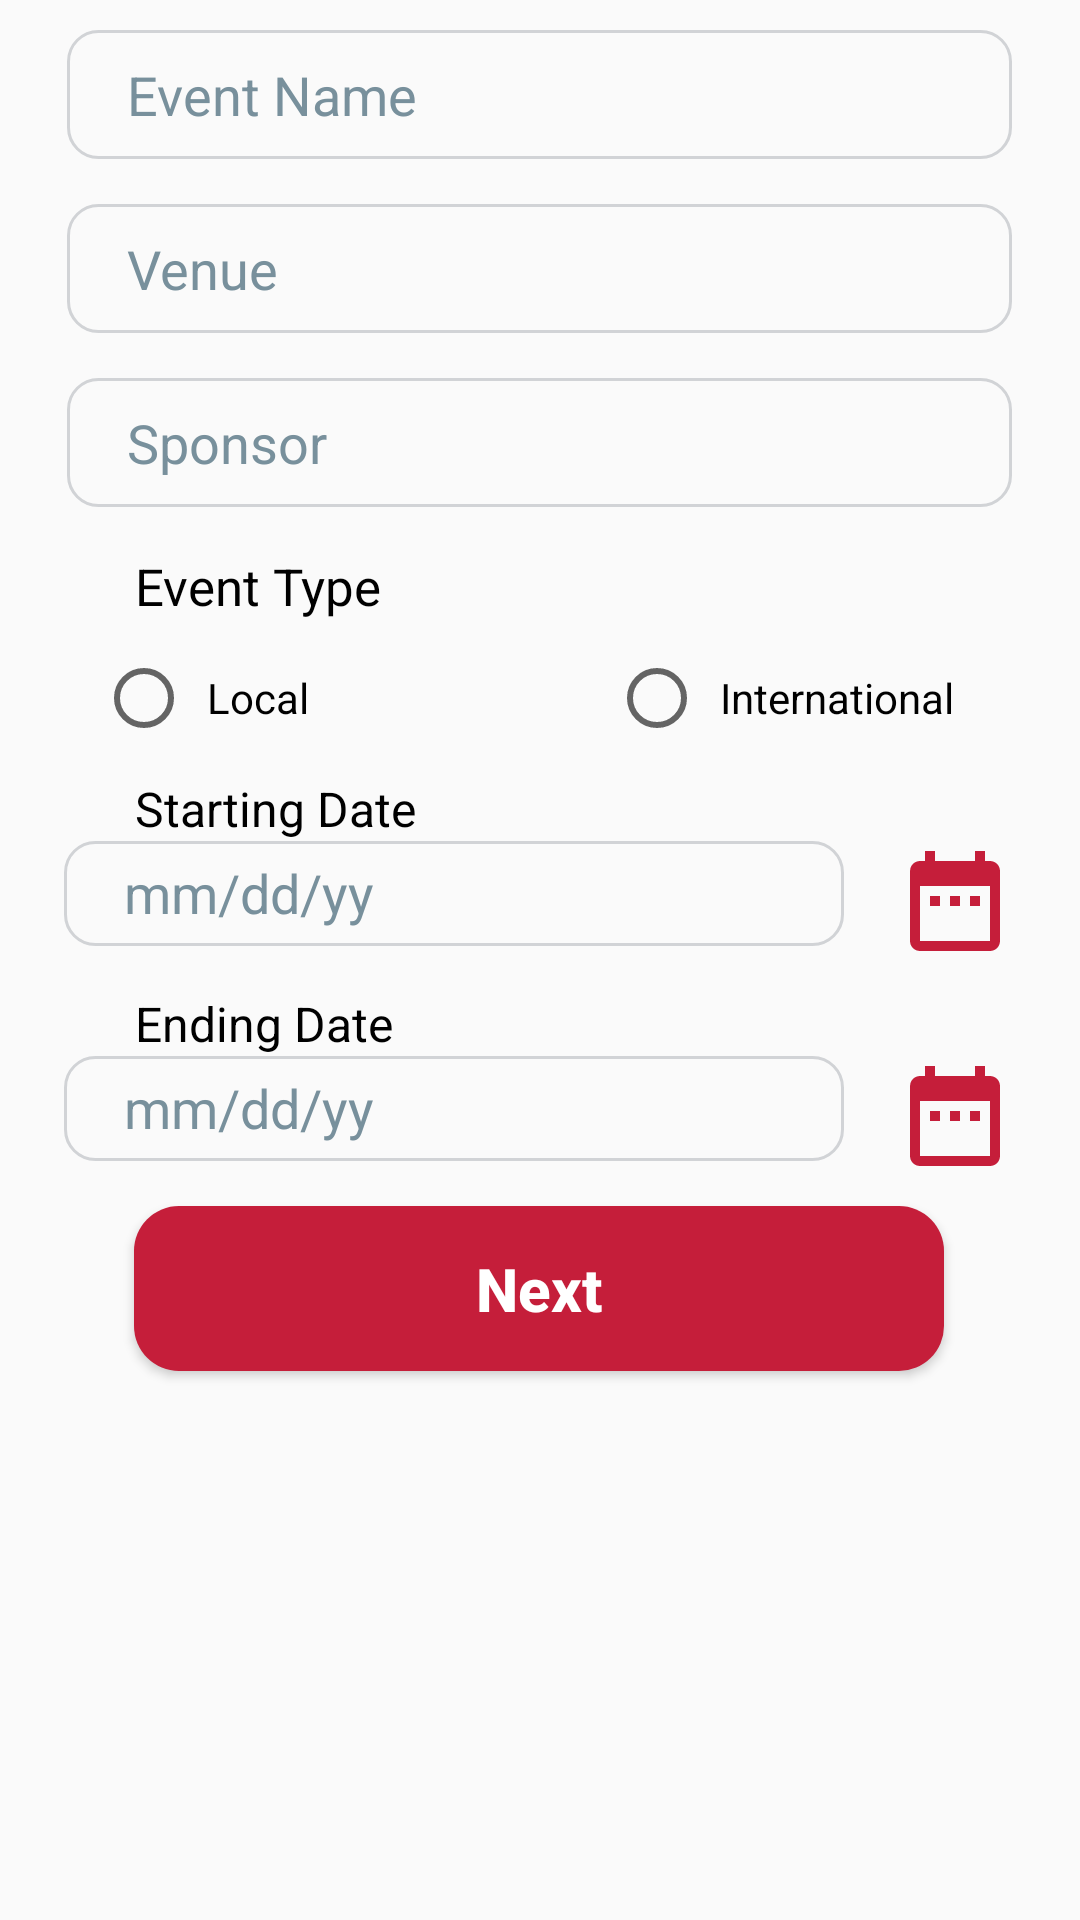

Screen size 1080px×1920px. Icon name, then its box in pixels as (x1, y1, x2, y2):
calendar: (910, 851, 1000, 951), (910, 1066, 1000, 1166)
